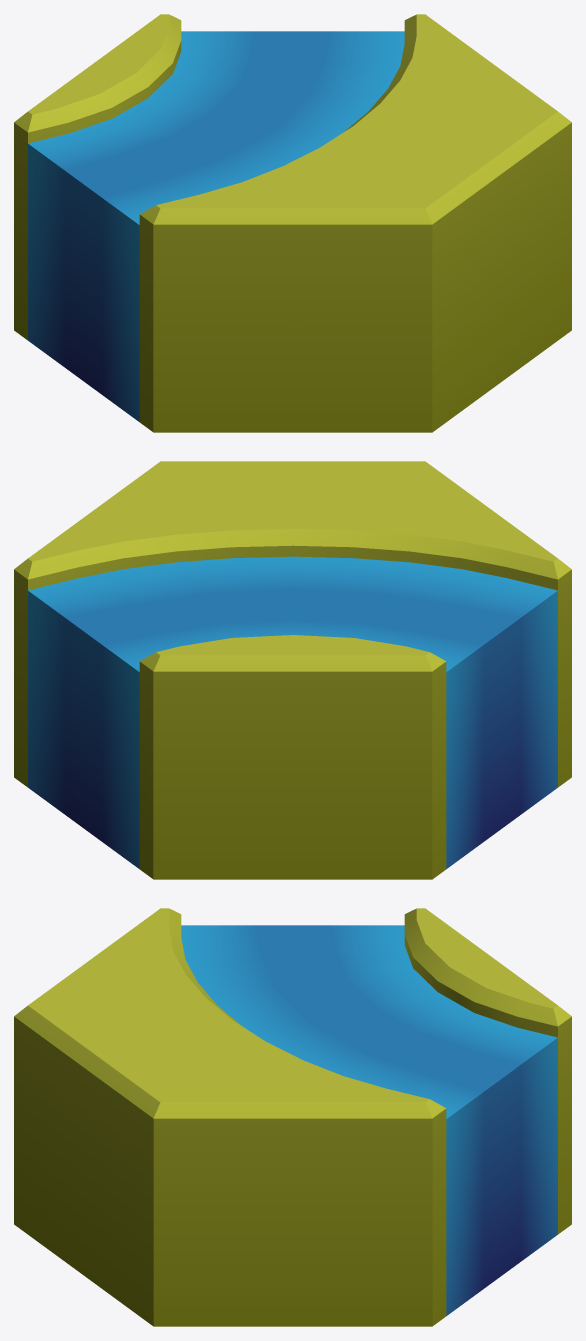
The model's file is hex_river_B.glb.
3 views of the same model, one above another, from view 1: azimuth 30°, elevation 25°; view 2: azimuth 150°, elevation 25°; view 3: azimuth 270°, elevation 25° (orthographic).
Parts seen in each view (by area): view 1: hex_river_B; view 2: hex_river_B; view 3: hex_river_B.
Boxes of the visible parts, x1,y1,x2,y2 form: hex_river_B: (14,14,571,432); hex_river_B: (14,461,571,879); hex_river_B: (14,908,571,1326).
Bounding box in the file's own units: 2 × 1 × 2.31.
1 material, 1 textured.
